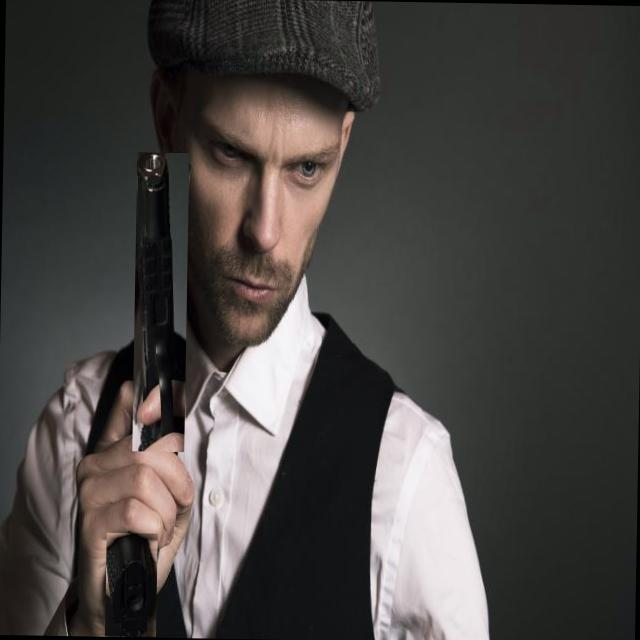Gun: (137, 152, 184, 451), (106, 533, 156, 636)
